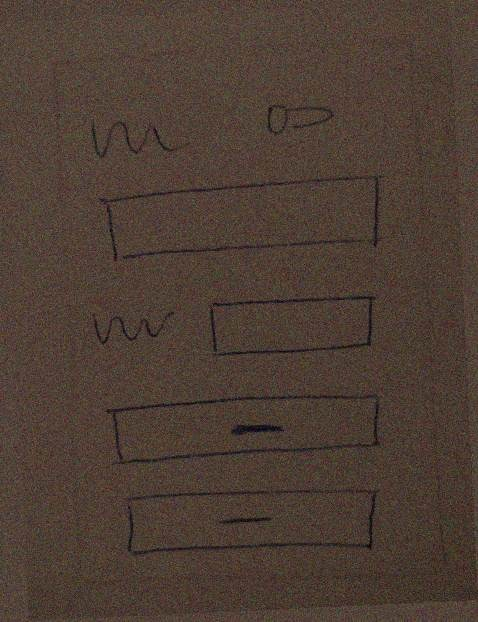button: (98, 384, 387, 476), (114, 474, 390, 568)
switch: (248, 89, 347, 141)
text: (82, 100, 194, 173), (81, 294, 182, 348)
text_input: (89, 171, 398, 273), (201, 284, 384, 367)
